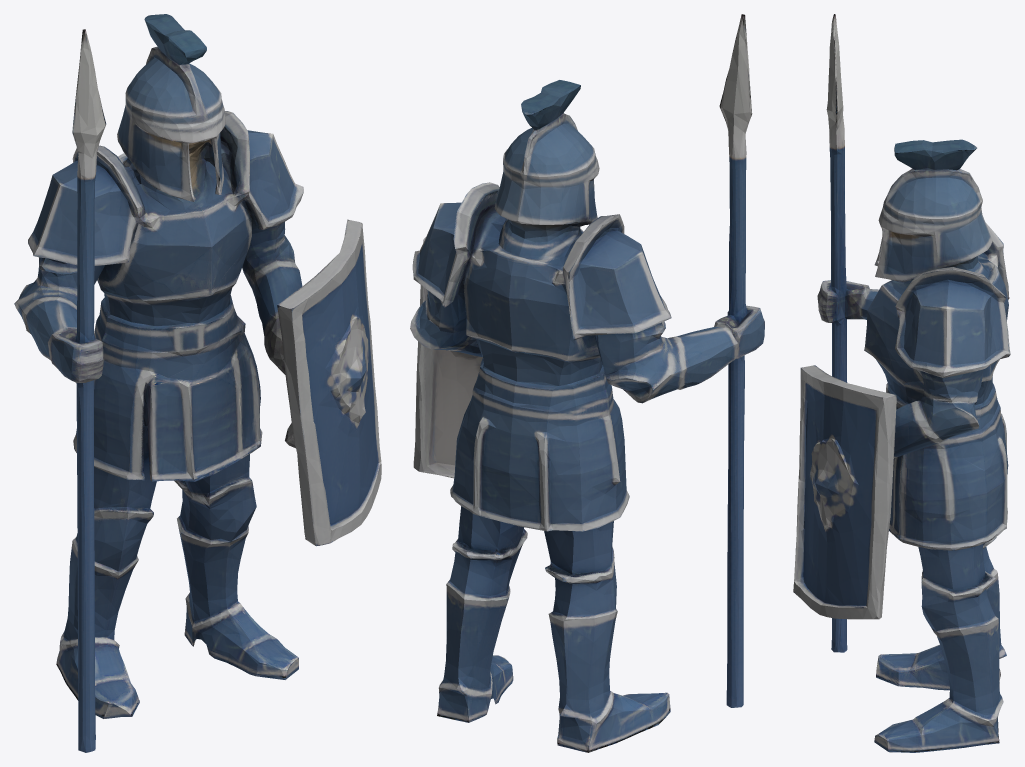
Rendered from Unit-05.glb.
3 renders of one model, left to right at view 1: azimuth 30°, elevation 25°; view 2: azimuth 150°, elevation 25°; view 3: azimuth 270°, elevation 25°, orthographic. The views are drawn at different scales.
Visible parts, largest first — view 1: world; view 2: world; view 3: world.
Boxes of the visible parts, x1,y1,x2,y2 form: world: [14, 14, 381, 752]; world: [410, 14, 764, 752]; world: [793, 14, 1010, 752].
Bounding box in the file's own units: 0.4904 × 0.9999 × 0.311.
Materials: 1 (1 with a texture image).
